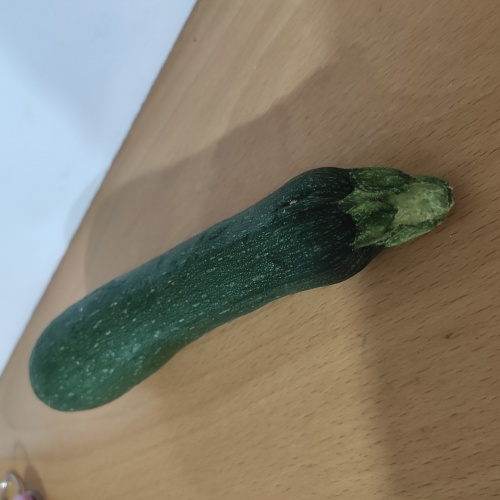zucchine: (31, 160, 456, 410)
